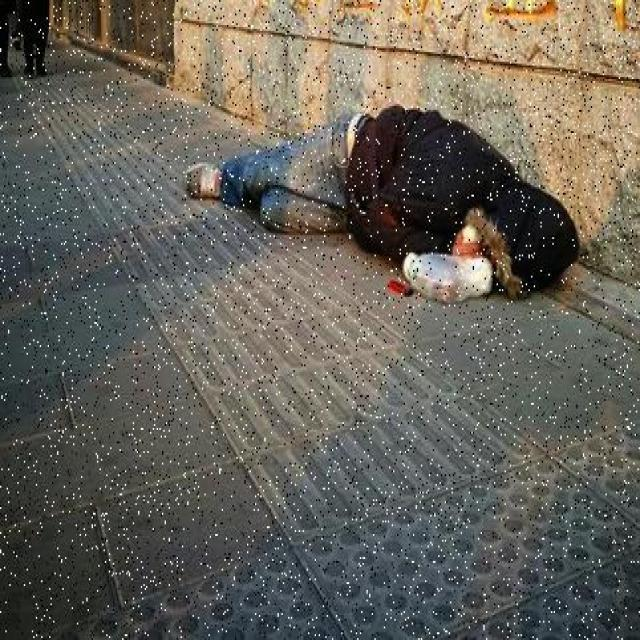fall: (192, 111, 552, 292)
